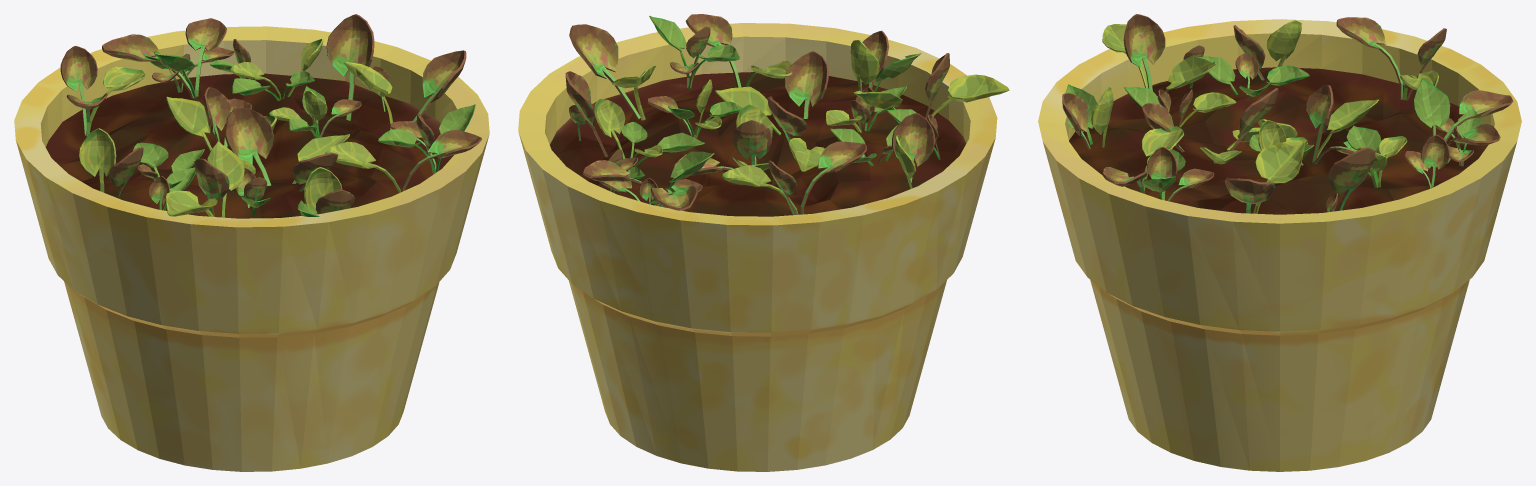
File: Viola_Horrible_End.glb
3 renders of one model, left to right at view 1: azimuth 30°, elevation 25°; view 2: azimuth 150°, elevation 25°; view 3: azimuth 270°, elevation 25°, orthographic.
Parts seen in each view (by area): view 1: Pot.002, Plane.017; view 2: Pot.002, Plane.017; view 3: Pot.002, Plane.017.
Part boxes in pixels (box(x1,y1,x2,y2)): Pot.002: box(14, 26, 489, 471); Plane.017: box(60, 14, 481, 217); Pot.002: box(518, 23, 997, 471); Plane.017: box(565, 14, 1009, 215); Pot.002: box(1038, 19, 1521, 471); Plane.017: box(1062, 14, 1513, 213).
Bounding box in the file's own units: 2.05 × 1.56 × 2.05.
Materials: 4 (4 with a texture image).
